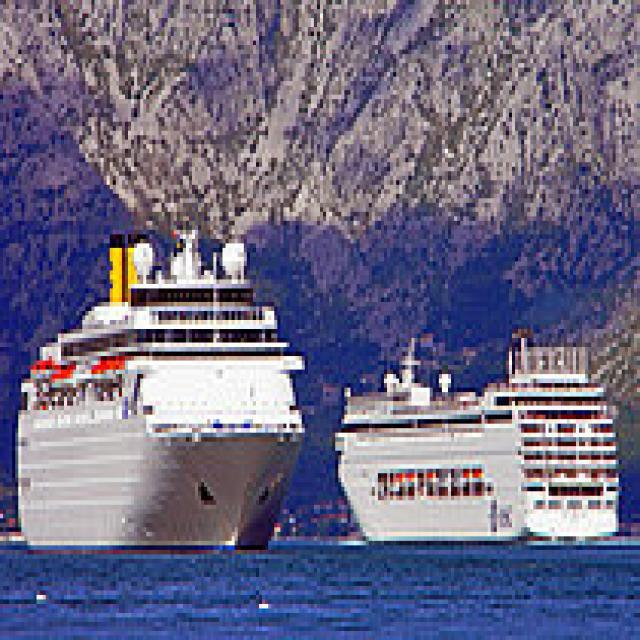Ship: (4, 222, 324, 569), (330, 326, 640, 574)
